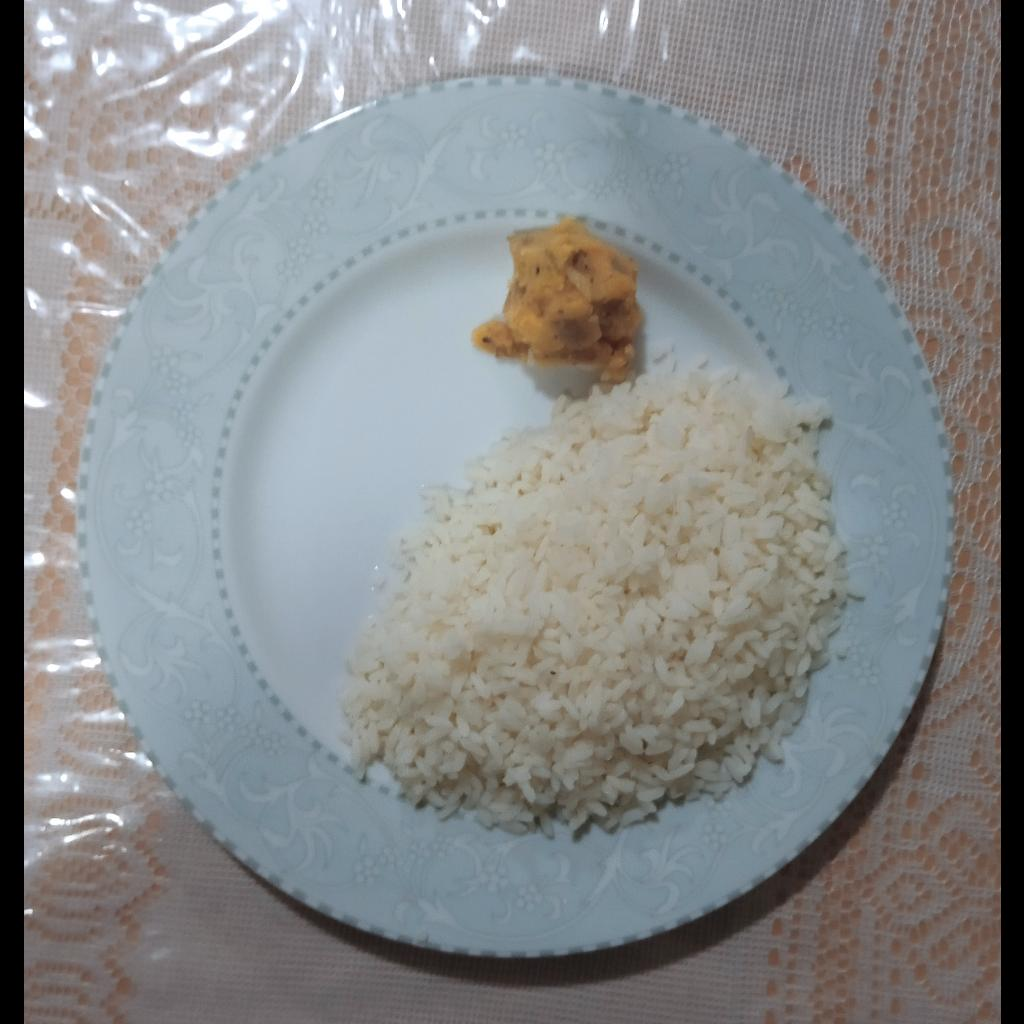potato-mashed: (471, 217, 642, 371)
rice: (339, 362, 857, 840)
